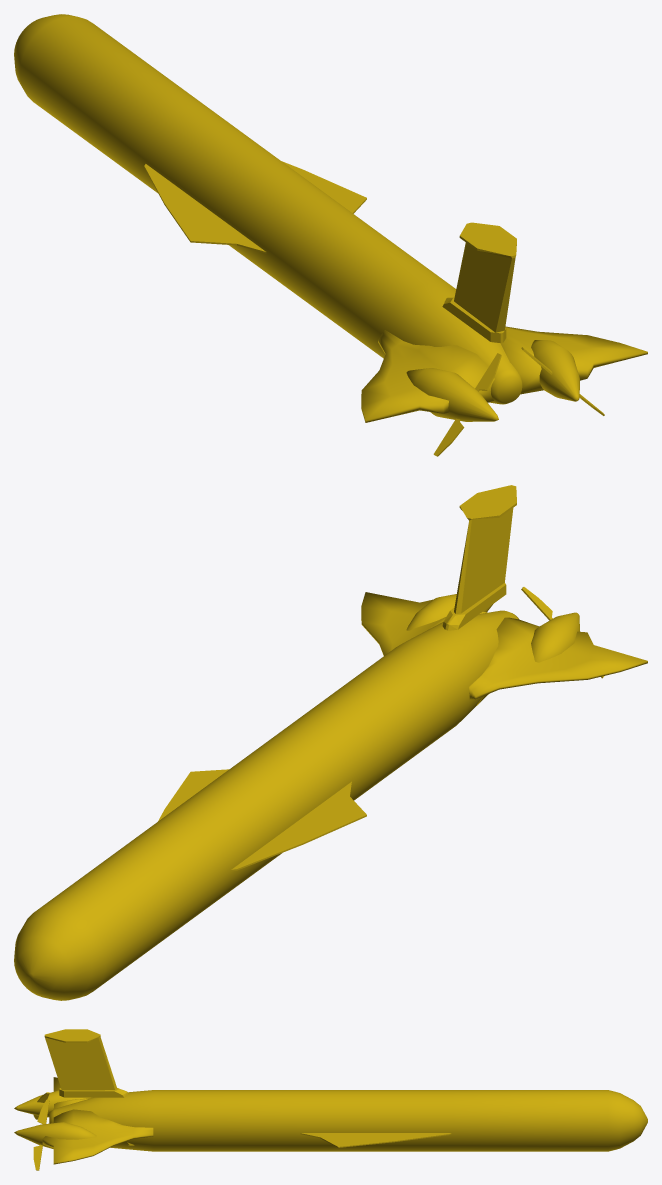
File: glider_hybrid_whoi.dae
The picture shows the model from 3 angles, top to bottom: view 1: azimuth 30°, elevation 25°; view 2: azimuth 150°, elevation 25°; view 3: azimuth 270°, elevation 25°; orthographic projection. The views are drawn at different scales.
Visible parts, largest first — view 1: Cylinder; view 2: Cylinder; view 3: Cylinder.
Boxes of the visible parts, <box> form: Cylinder: <box>14,14,647,456</box>; Cylinder: <box>14,485,647,1000</box>; Cylinder: <box>14,1029,647,1170</box>.
Bounding box in the file's own units: 0.2867 × 0.892 × 0.1762.
Materials: 1 (1 with a texture image).
